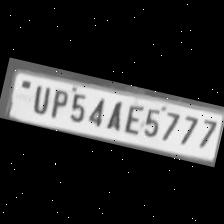4: (84, 92, 110, 127)
5: (63, 86, 90, 124), (138, 102, 164, 138)
7: (192, 114, 219, 150), (174, 110, 200, 146), (157, 106, 182, 142)
A: (101, 96, 126, 131)
E: (119, 98, 146, 134)
P: (46, 84, 71, 118)
U: (27, 80, 54, 115)
